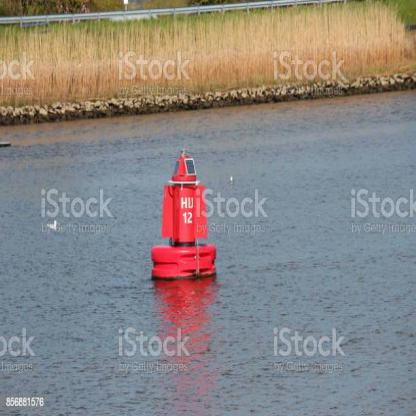Buoy: (149, 145, 219, 287)
